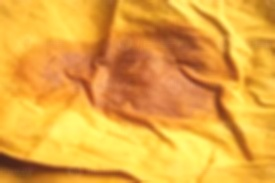oil: (25, 27, 238, 120)
